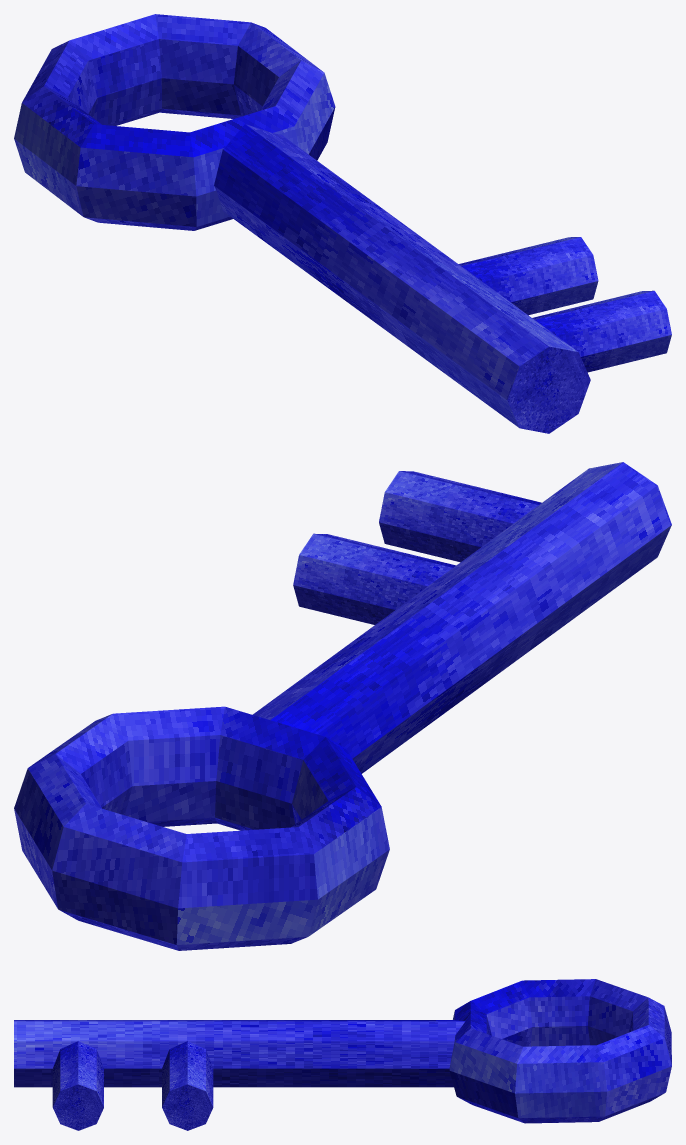
File: blue_key.glb
The picture shows the model from 3 angles, top to bottom: view 1: azimuth 30°, elevation 25°; view 2: azimuth 150°, elevation 25°; view 3: azimuth 270°, elevation 25°; orthographic projection. The views are drawn at different scales.
Visible parts, largest first — view 1: Torus; view 2: Torus; view 3: Torus.
Part boxes in pixels (<box>): Torus: <box>14,14,671,433</box>; Torus: <box>14,462,671,950</box>; Torus: <box>14,979,671,1130</box>.
Size of the model in its own units: 0.822 by 0.3164 by 2.21.
Materials: 1 (1 with a texture image).
